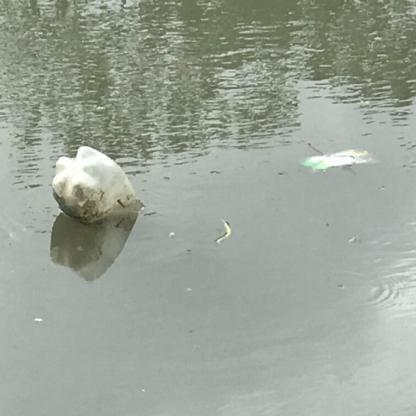plastic bag: (301, 147, 375, 170)
plastic bottle: (52, 146, 142, 222)
